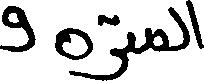X: (57, 23, 91, 80), (0, 1, 33, 56), (110, 10, 125, 80), (169, 0, 188, 55), (190, 0, 203, 53), (148, 23, 166, 56), (128, 27, 134, 65)
